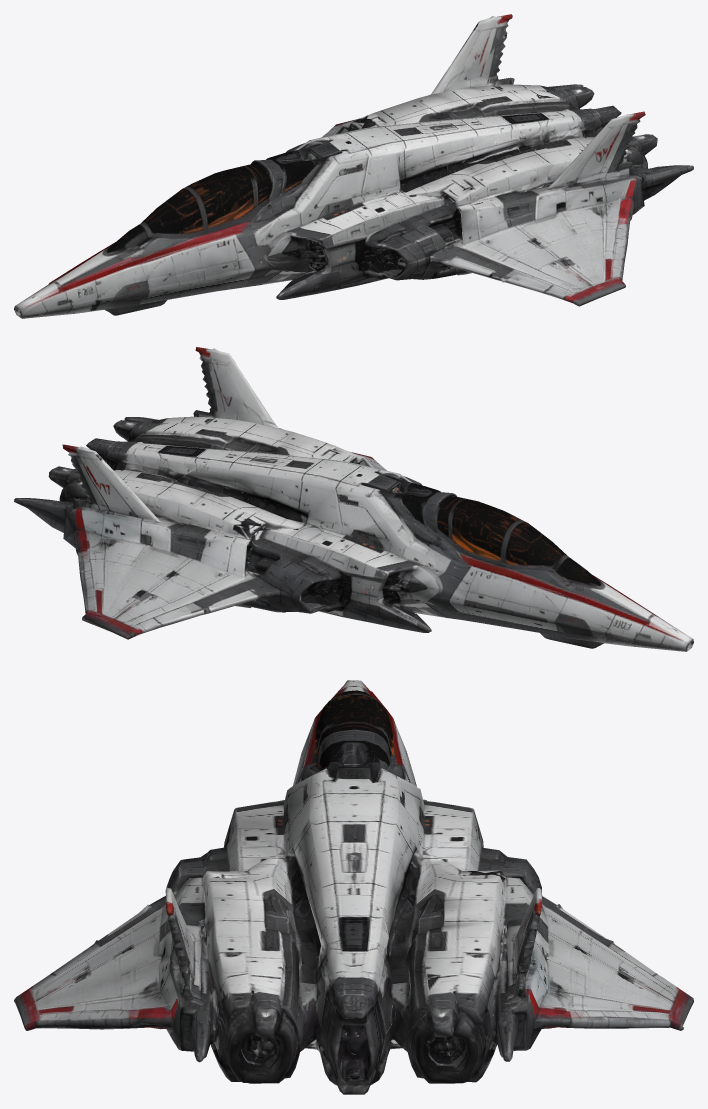
The model's file is spaceship.glb.
The picture shows the model from 3 angles, top to bottom: view 1: azimuth 30°, elevation 25°; view 2: azimuth 150°, elevation 25°; view 3: azimuth 270°, elevation 25°; orthographic projection. The views are drawn at different scales.
Visible parts, largest first — view 1: Mesh1.0_Material.001_0; view 2: Mesh1.0_Material.001_0; view 3: Mesh1.0_Material.001_0.
Part boxes in pixels (x1,y1,x2,y2): Mesh1.0_Material.001_0: (14, 14, 693, 318); Mesh1.0_Material.001_0: (14, 347, 693, 651); Mesh1.0_Material.001_0: (14, 680, 693, 1094).
Bounding box in the file's own units: 1.91 × 0.4429 × 1.3.
1 material, 1 textured.
